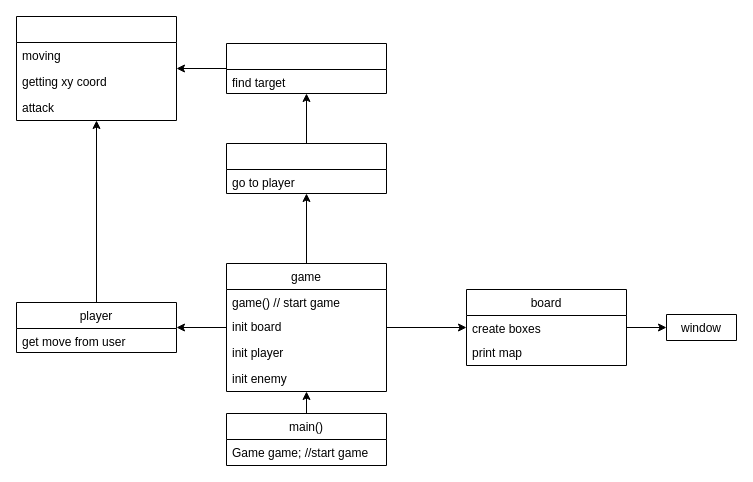
This 753x482 diagram has some shape labels left out. The shapes that lost their labels are listed below. From the top down, each one's box as (x1, y1, x2, y2) in pixels, then its label:
(16, 16, 176, 120): creature
(226, 42, 386, 94): bot
(226, 142, 386, 194): enemy
